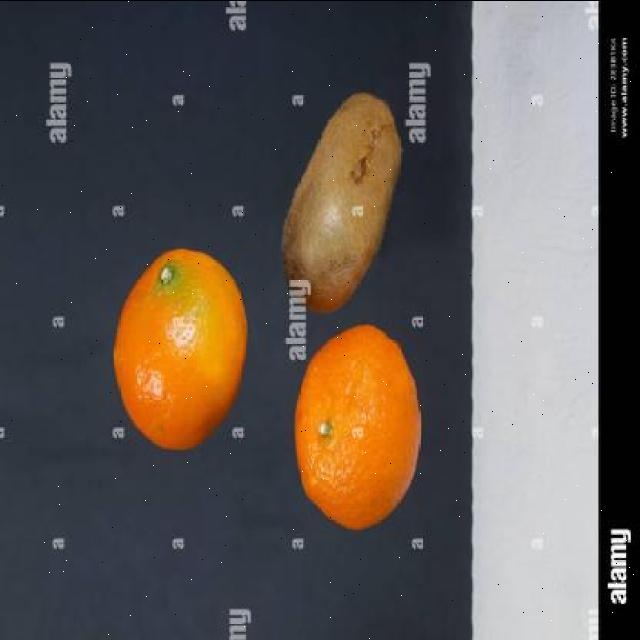Orange: (110, 248, 248, 450), (293, 323, 422, 531)
